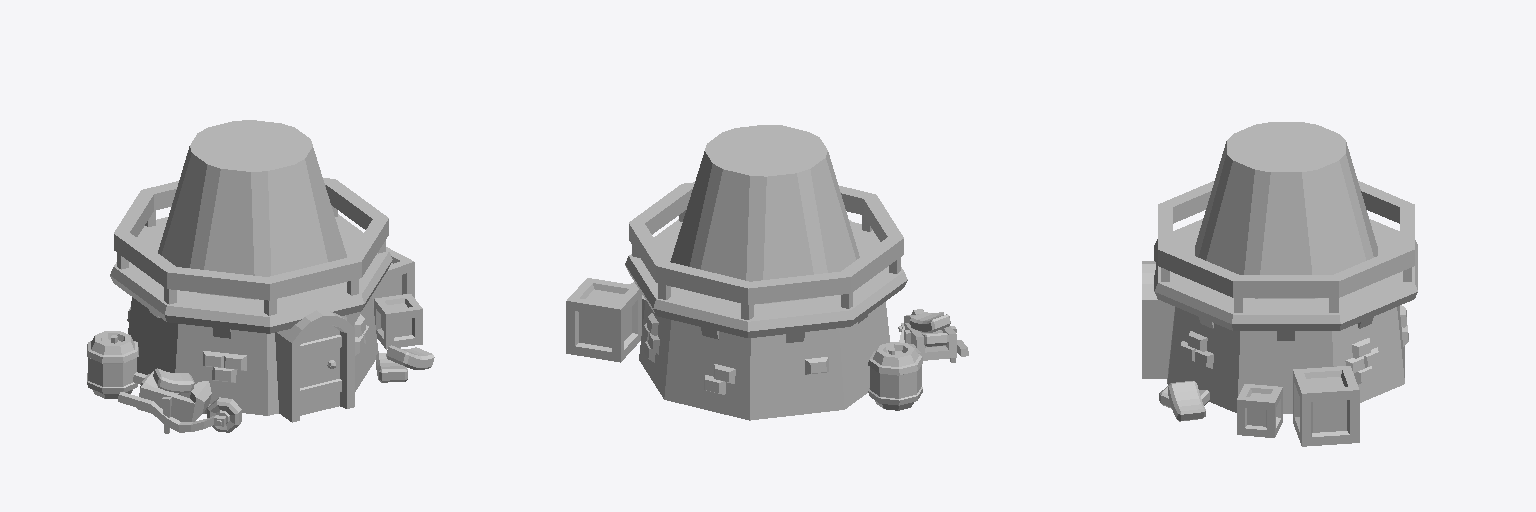
Rendered from building_windmill_red.obj.
The picture shows the model from 3 angles: view 1: azimuth 30°, elevation 25°; view 2: azimuth 150°, elevation 25°; view 3: azimuth 270°, elevation 25°; orthographic projection.
Parts seen in each view (by area): view 1: building_windmill_red; view 2: building_windmill_red; view 3: building_windmill_red.
Part boxes in pixels (x1,y1,x2,y2): building_windmill_red: (87, 120, 434, 433); building_windmill_red: (566, 125, 968, 420); building_windmill_red: (1142, 122, 1417, 446).
Bounding box in the file's own units: 1.13 × 0.6853 × 0.7939.